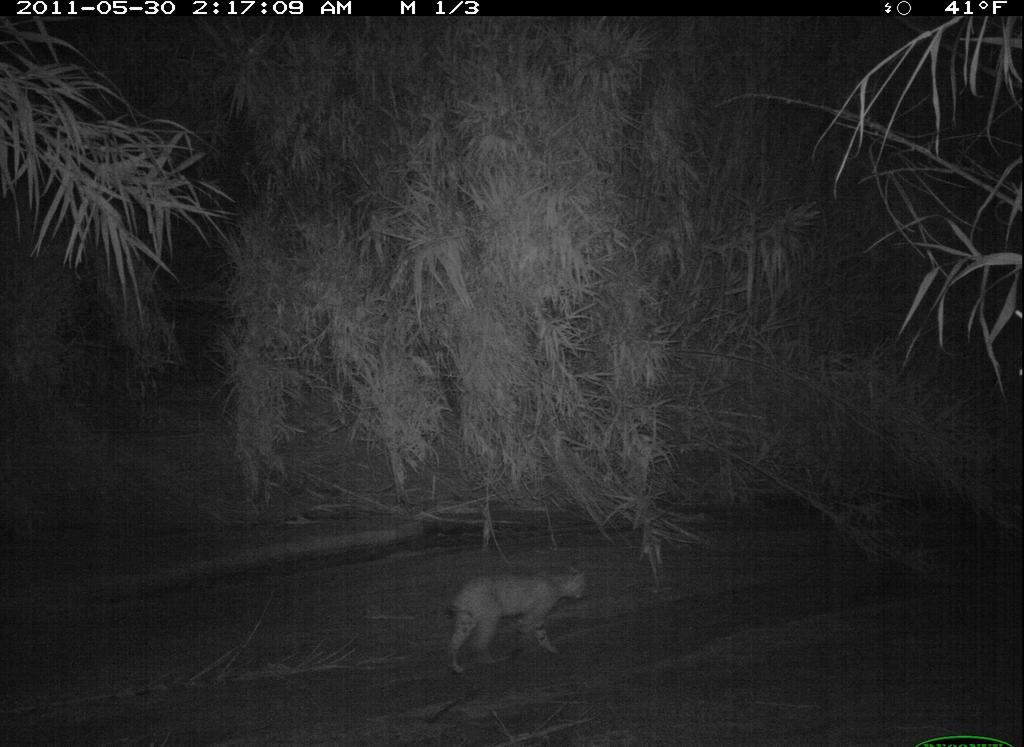bobcat: (438, 558, 596, 681)
